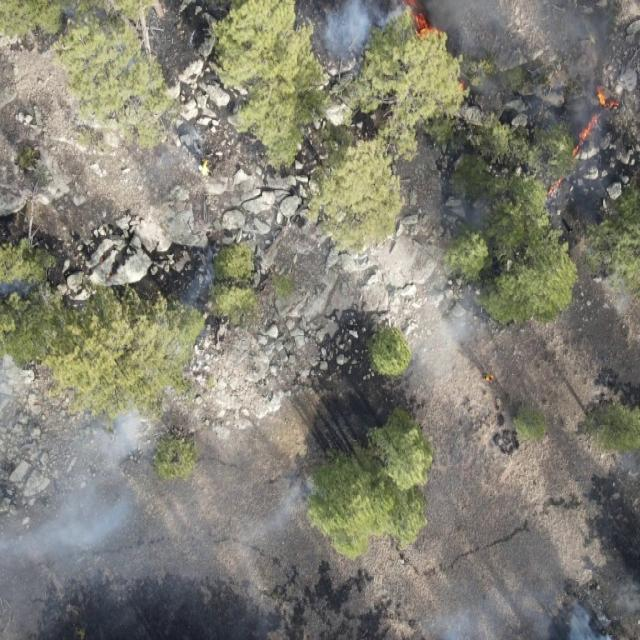fire: (542, 115, 604, 199), (403, 0, 439, 42), (590, 83, 624, 116), (450, 76, 470, 96)
smoke: (0, 366, 153, 639), (314, 0, 640, 72), (236, 472, 316, 606), (425, 591, 640, 640), (402, 282, 487, 371), (150, 100, 218, 188), (433, 185, 493, 244), (181, 247, 219, 303), (0, 266, 33, 302)
